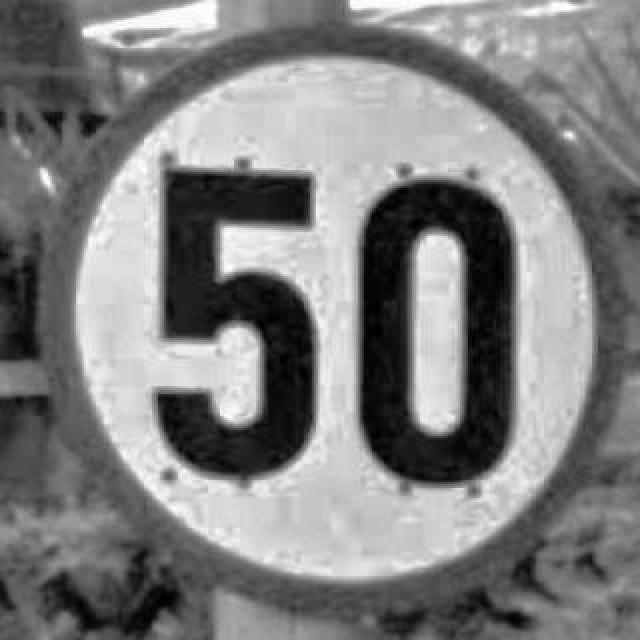50 kph: (34, 24, 618, 610)
